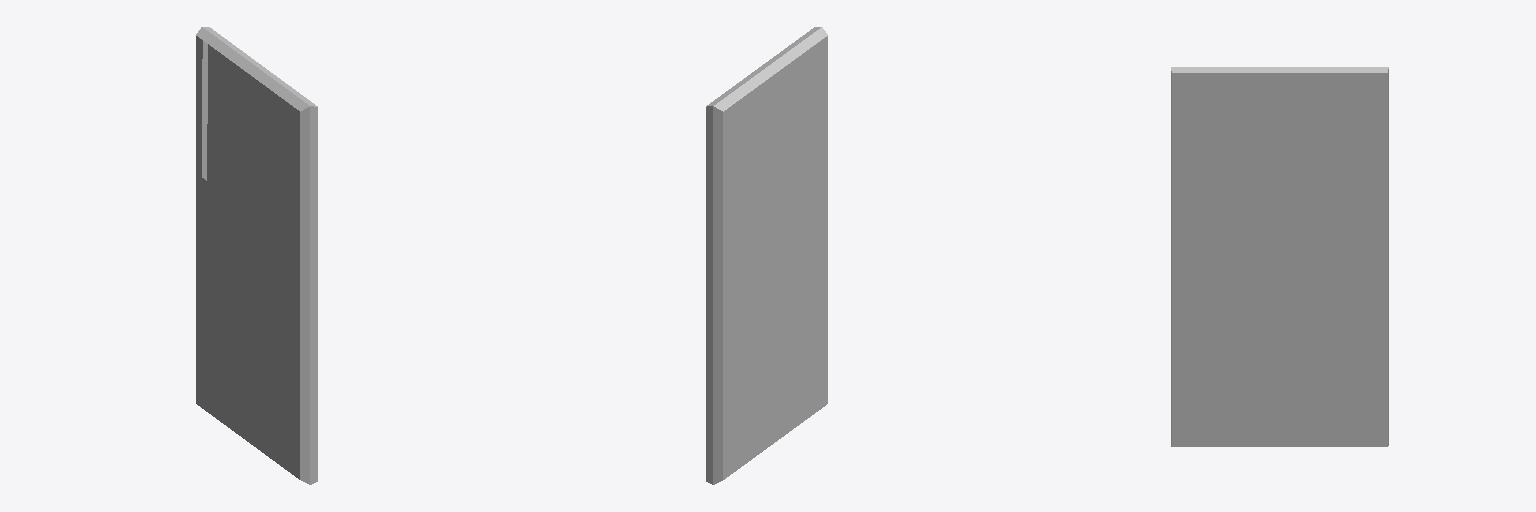
File: Fridge3.obj
The picture shows the model from 3 angles: view 1: azimuth 30°, elevation 25°; view 2: azimuth 150°, elevation 25°; view 3: azimuth 270°, elevation 25°; orthographic projection.
Visible parts, largest first — view 1: polySurface1B_Electric_0_007_2; view 2: polySurface1B_Electric_0_007_2; view 3: polySurface1B_Electric_0_007_2.
Part boxes in pixels (x1,y1,x2,y2): polySurface1B_Electric_0_007_2: (196,27,317,484); polySurface1B_Electric_0_007_2: (706,27,827,484); polySurface1B_Electric_0_007_2: (1171,67,1388,446).
Size of the model in its own units: 0.1296 by 2.91 by 1.51.